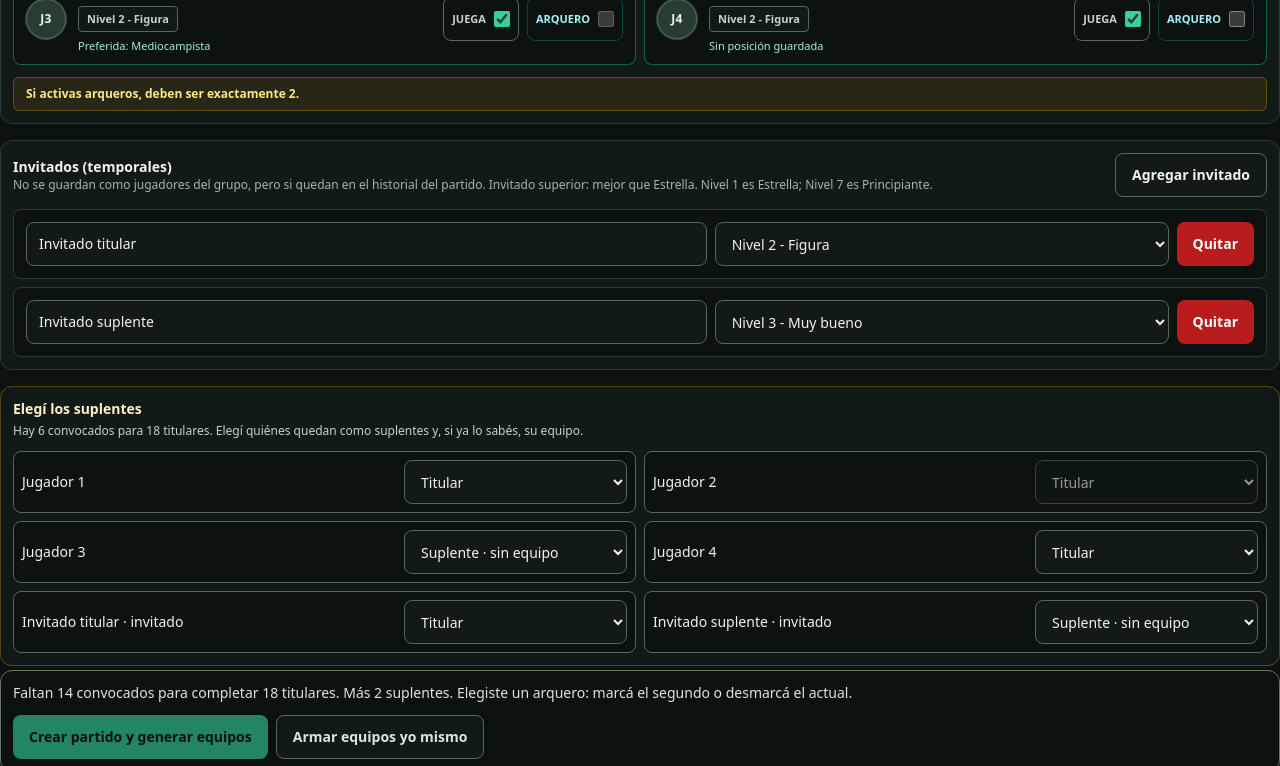
it: NewMatchForm › resume titulares sin duplicar secundarias, invitados, suplentes o arqueros marcados
(page scrolled)
Select "Titular" in the dropdown named "Rol de Jugador 3" at x=516, y=552, box [404,530,627,574]
(page scrolled)
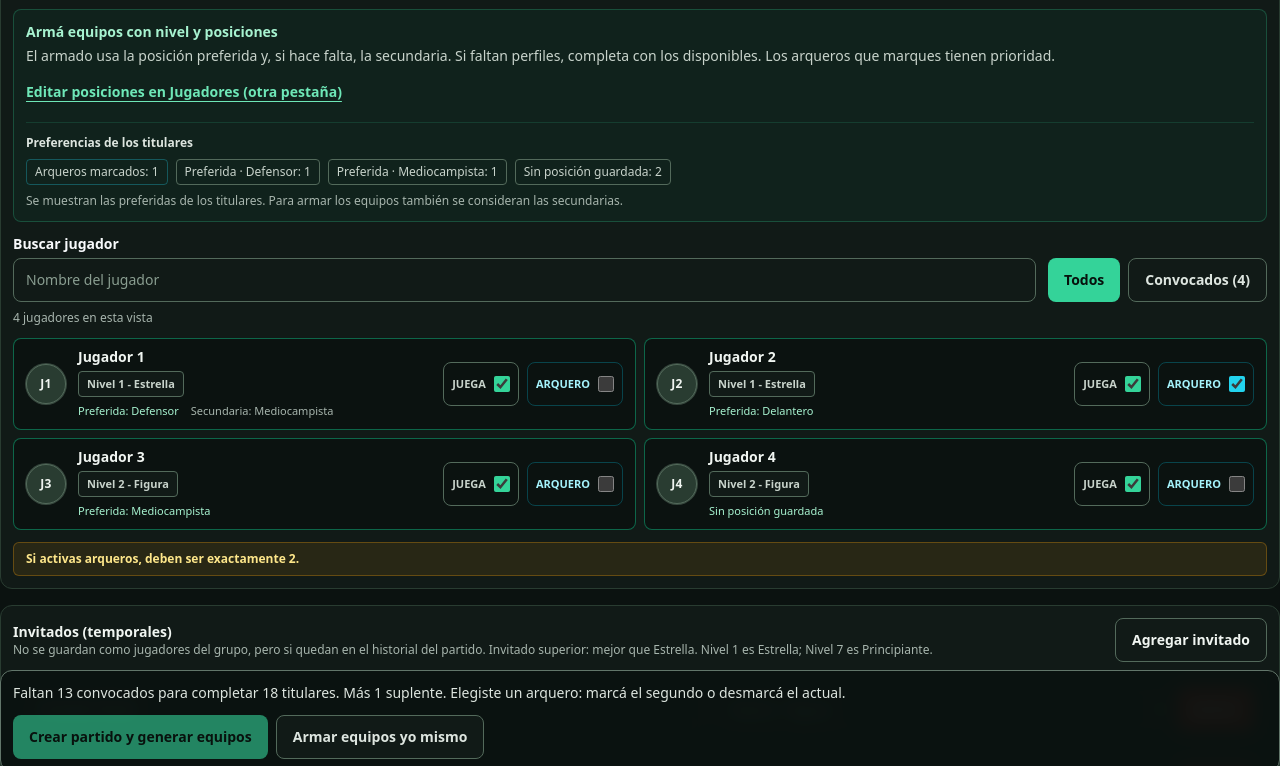
Now the text "Preferida · Mediocampista: 1" is shown, box [328,159,507,185]
Click the checkbox named "Arquero Jugador 2" at x=1237, y=384, box [1229,376,1245,392]
(page scrolled)
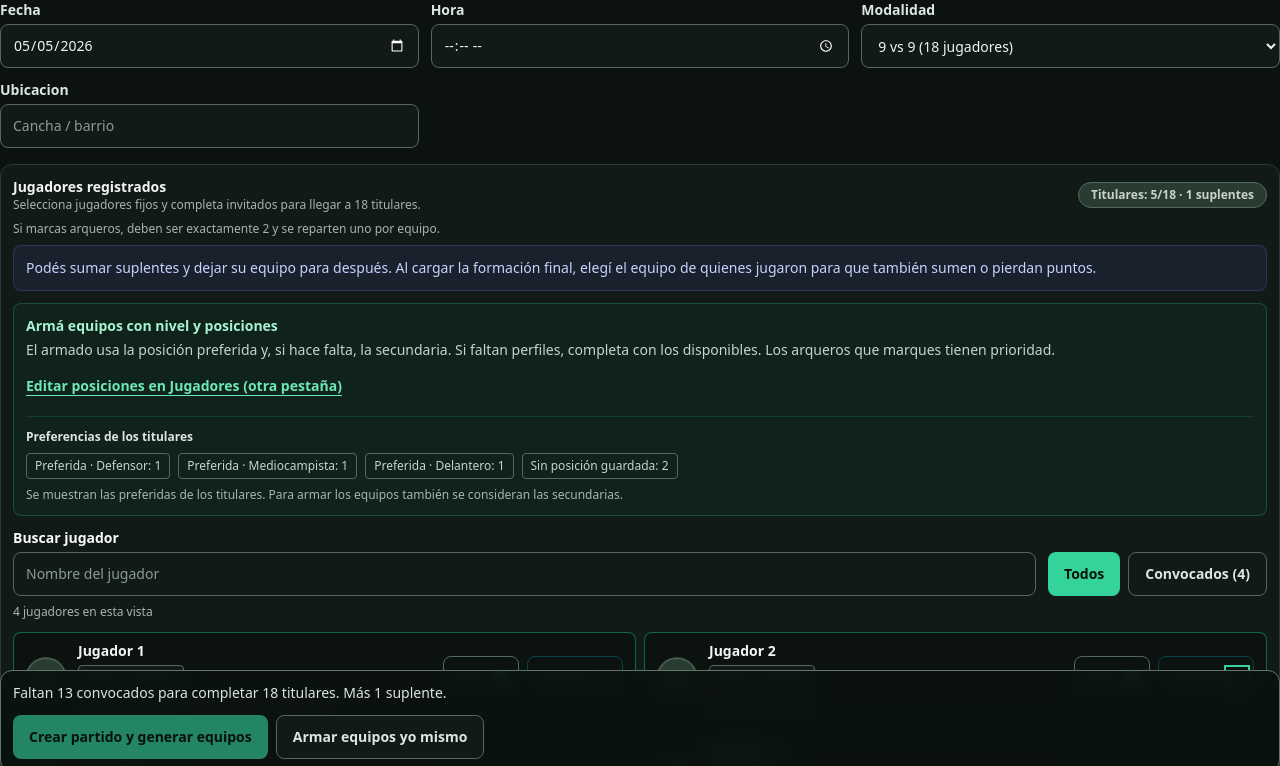
Now the text "Preferida · Delantero: 1" is shown, box [365,453,514,479]
Now the text "Arqueros marcados: 1" is gone
Select "7 vs 7 (14 jugadores)" in the dropdown labelled "Modalidad" at x=1071, y=46, box [861,24,1279,68]
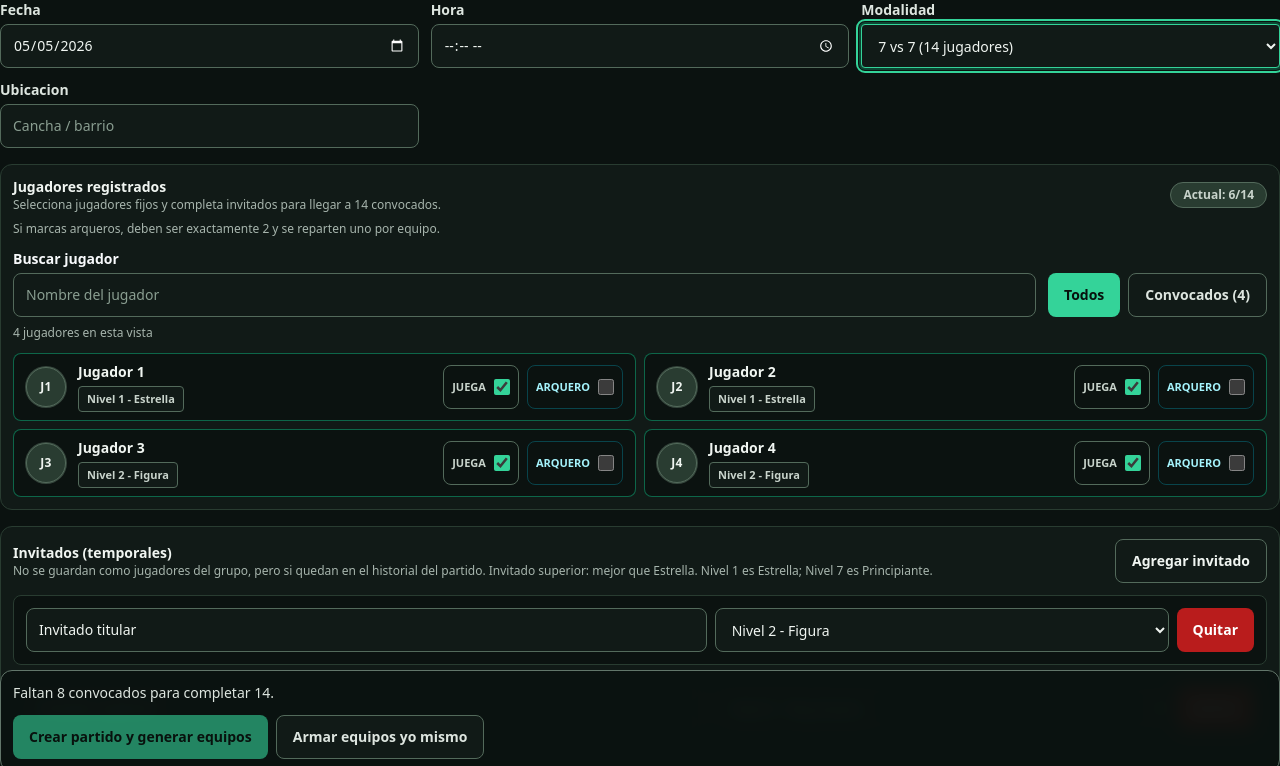
Now the text "Preferencias de los titulares" is gone
